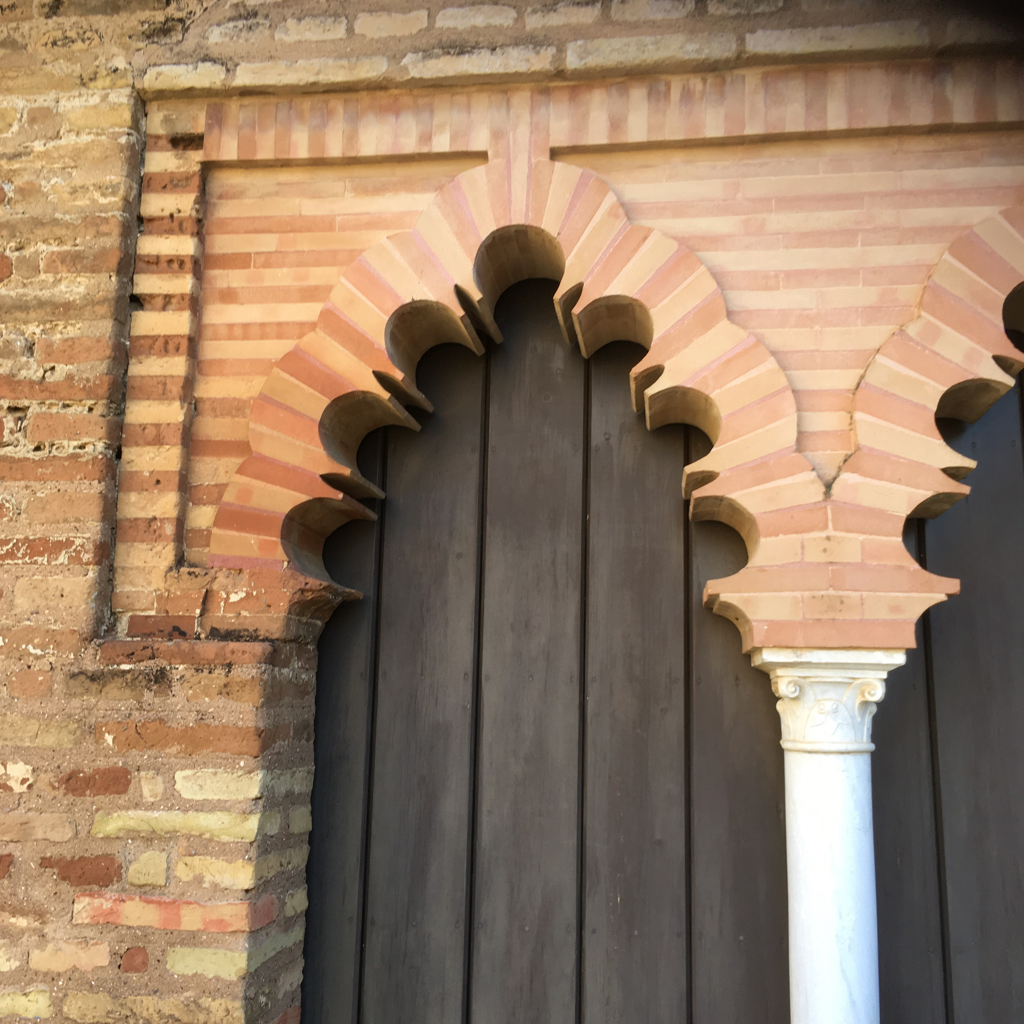arco-lobulado: (248, 198, 808, 698)
